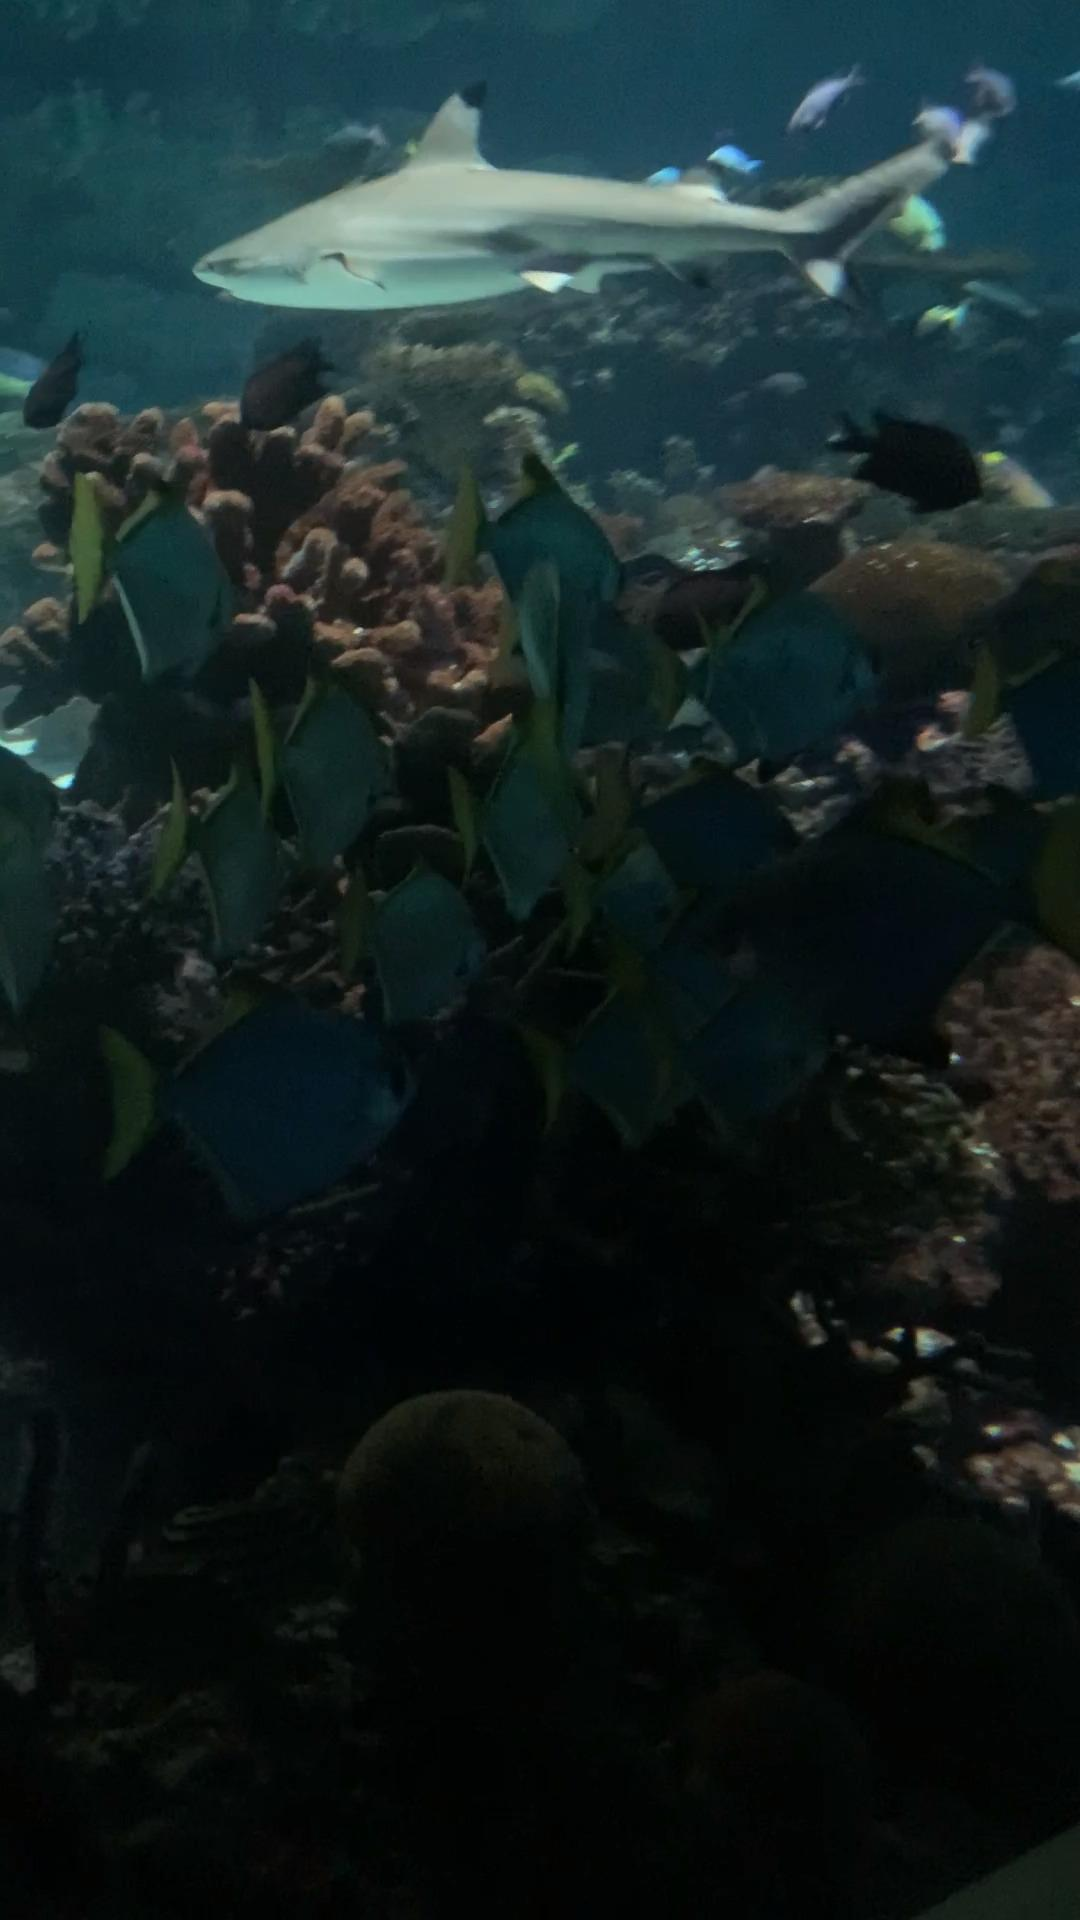fish: (727, 786, 1042, 1048), (57, 733, 353, 994), (113, 1007, 447, 1233), (113, 651, 413, 843), (585, 903, 765, 1155), (473, 620, 742, 786), (410, 436, 658, 613), (683, 579, 948, 738), (76, 459, 252, 673), (415, 761, 633, 924), (824, 409, 986, 521), (233, 338, 338, 433), (22, 327, 88, 433), (878, 185, 948, 260), (965, 65, 1014, 131), (787, 84, 849, 135), (318, 123, 390, 164), (705, 144, 766, 177)
shark: (193, 73, 1011, 307)
